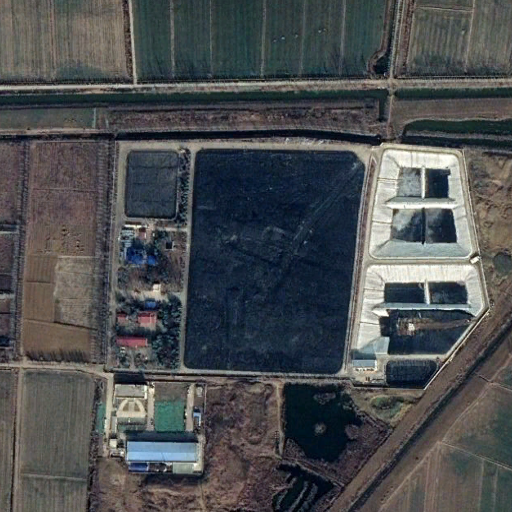lf: (188, 140, 487, 387)
